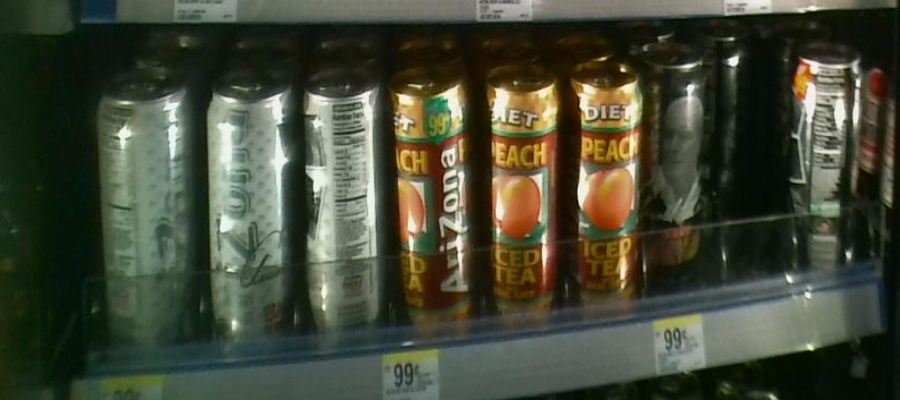bottle: (199, 62, 296, 369), (95, 69, 195, 364), (390, 65, 479, 389), (300, 60, 387, 382), (482, 62, 565, 380), (567, 49, 641, 376), (786, 39, 862, 295), (642, 36, 706, 306), (709, 29, 749, 293)
